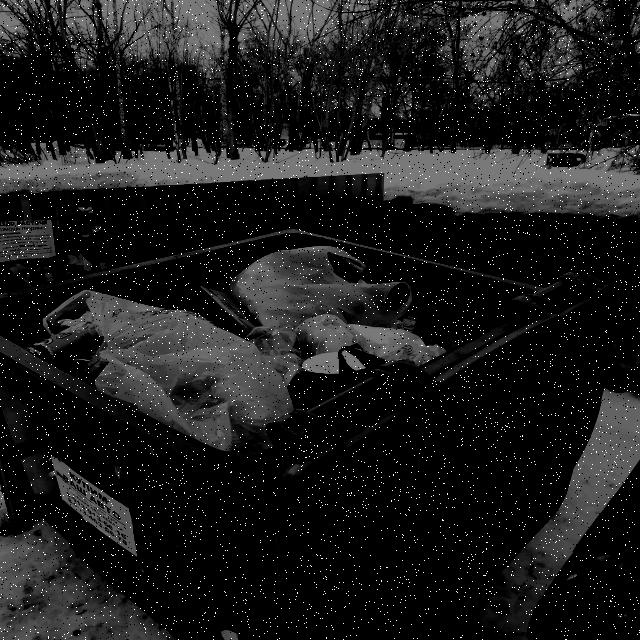Trashcan: (0, 213, 630, 640)
